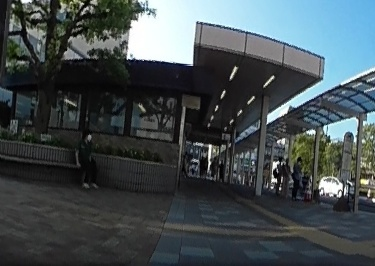person: (75, 128, 98, 190), (294, 154, 302, 199), (282, 154, 290, 192), (274, 158, 282, 194)
